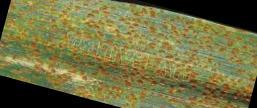Wheat: (16, 2, 120, 76), (125, 14, 179, 108), (184, 34, 245, 108)
